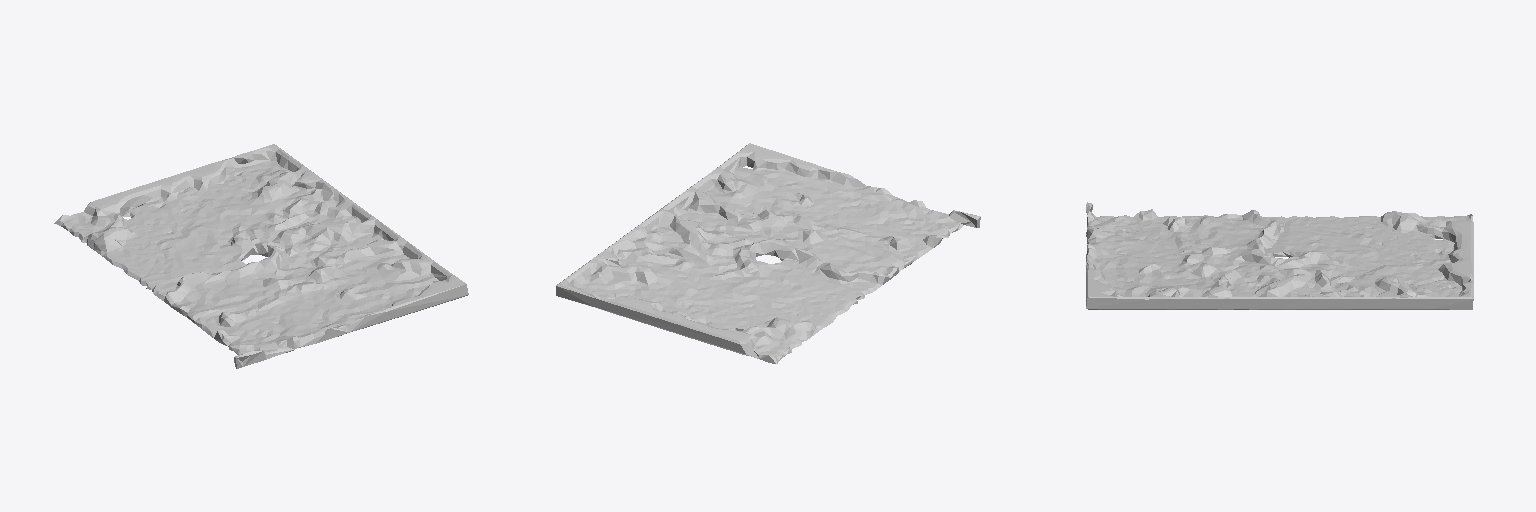
3 renders of one model, left to right at view 1: azimuth 30°, elevation 25°; view 2: azimuth 150°, elevation 25°; view 3: azimuth 270°, elevation 25°, orthographic.
Visible parts, largest first — view 1: Liquid_Domain; view 2: Liquid_Domain; view 3: Liquid_Domain.
Part boxes in pixels (bbox=[...]): Liquid_Domain: bbox=[54, 144, 468, 368]; Liquid_Domain: bbox=[556, 143, 980, 363]; Liquid_Domain: bbox=[1086, 202, 1473, 309].
Bounding box in the file's own units: 116 × 13.87 × 168.